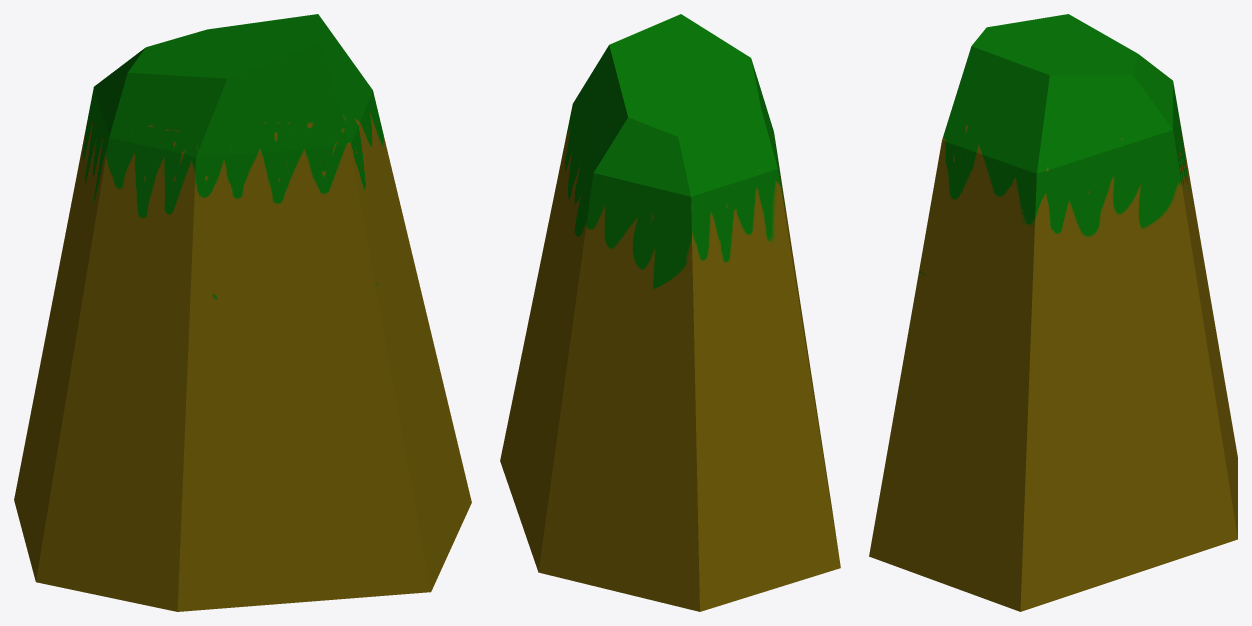
Rendered from 1 1 25 makerfaire grass map mountain concept.glb.
The picture shows the model from 3 angles, left to right: view 1: azimuth 30°, elevation 25°; view 2: azimuth 150°, elevation 25°; view 3: azimuth 270°, elevation 25°; orthographic projection. The views are drawn at different scales.
Parts seen in each view (by area): view 1: Circle.036; view 2: Circle.036; view 3: Circle.036.
Boxes of the visible parts, left/top/right/bottom form: Circle.036: left=14, top=14, right=471, bottom=611; Circle.036: left=500, top=14, right=840, bottom=611; Circle.036: left=869, top=14, right=1237, bottom=611.
Bounding box in the file's own units: 11.07 × 13.55 × 9.32.
Materials: 1 (1 with a texture image).
